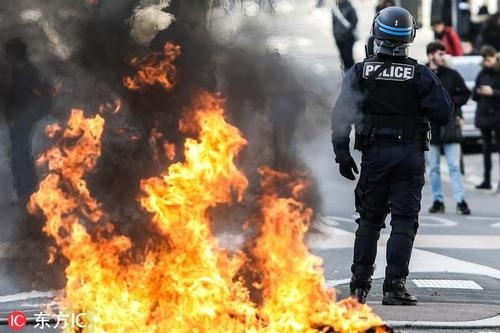fire: (27, 76, 343, 332), (124, 42, 181, 89)
